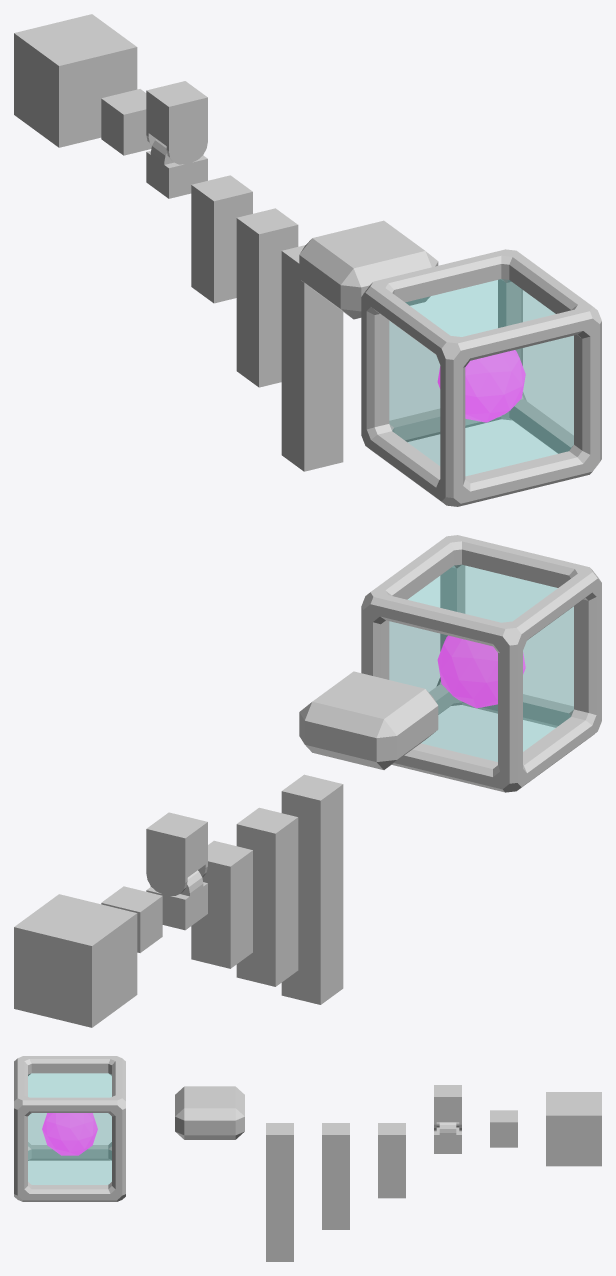
File: Parts.fbx
3 renders of one model, top to bottom at view 1: azimuth 30°, elevation 25°; view 2: azimuth 150°, elevation 25°; view 3: azimuth 270°, elevation 25°, orthographic. The views are drawn at different scales.
Visible parts, largest first — view 1: HeartBox, Cube.001, Limb 1, Limb 0.75, Foot, Limb 0.5, Hinge, Icosphere, Cube, Hinge Part; view 2: HeartBox, Cube.001, Limb 1, Foot, Limb 0.75, Limb 0.5, Hinge, Icosphere, Cube, Hinge Part; view 3: HeartBox, Cube.001, Limb 1, Foot, Limb 0.75, Limb 0.5, Icosphere, Hinge, Cube, Hinge Part.
Boxes of the visible parts, box(x1,y1,x2,y2) form: HeartBox: box(361, 249, 601, 506); Cube.001: box(14, 14, 137, 147); Limb 1: box(281, 245, 343, 471); Limb 0.75: box(236, 208, 298, 387); Foot: box(299, 220, 438, 319); Limb 0.5: box(191, 175, 252, 303); Hinge: box(146, 81, 207, 164); Icosphere: box(437, 350, 525, 422); Cube: box(101, 89, 151, 155); Hinge Part: box(146, 139, 207, 198); HeartBox: box(361, 535, 601, 792); Cube.001: box(14, 894, 137, 1027); Limb 1: box(281, 774, 343, 1004); Foot: box(299, 671, 438, 769); Limb 0.75: box(236, 807, 298, 986); Limb 0.5: box(191, 840, 252, 968); Hinge: box(146, 812, 207, 895); Icosphere: box(437, 635, 525, 708); Cube: box(101, 886, 162, 952); Hinge Part: box(146, 870, 207, 930); HeartBox: box(14, 1056, 125, 1201); Cube.001: box(546, 1092, 601, 1166); Limb 1: box(266, 1123, 293, 1261); Foot: box(175, 1086, 244, 1139); Limb 0.75: box(322, 1123, 349, 1229); Limb 0.5: box(378, 1123, 405, 1198); Icosphere: box(42, 1113, 97, 1155); Hinge: box(434, 1085, 461, 1131); Cube: box(490, 1110, 517, 1147); Hinge Part: box(434, 1122, 461, 1153).
Size of the model in its own units: 80 by 140 by 420.
